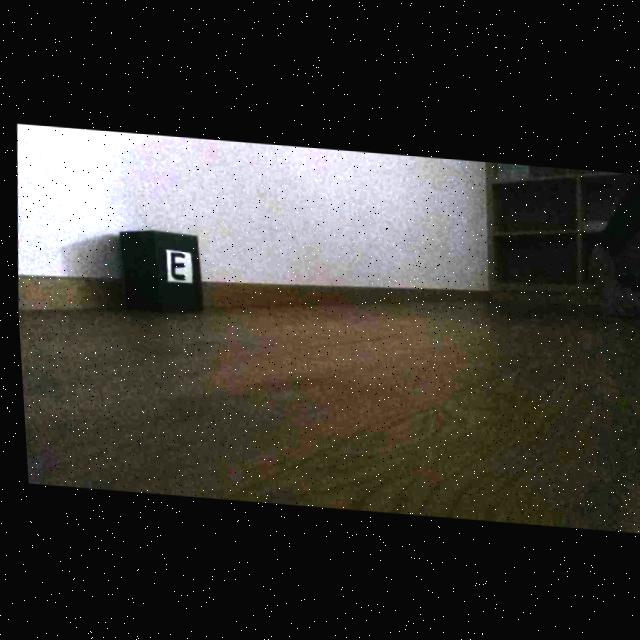E: (168, 252, 183, 278)
